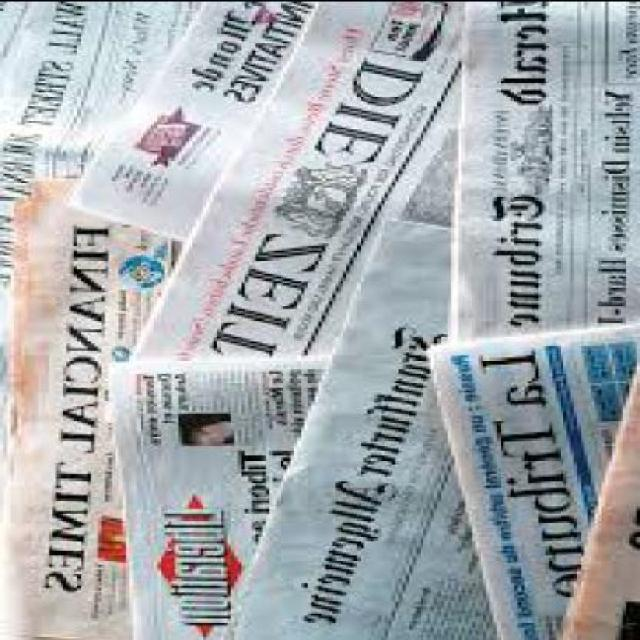PAPER: (0, 1, 638, 638), (126, 1, 465, 357), (235, 212, 493, 638), (0, 174, 186, 638), (0, 0, 192, 403), (424, 316, 636, 638), (102, 356, 329, 638), (448, 2, 638, 336), (67, 2, 316, 240), (553, 365, 636, 638)
